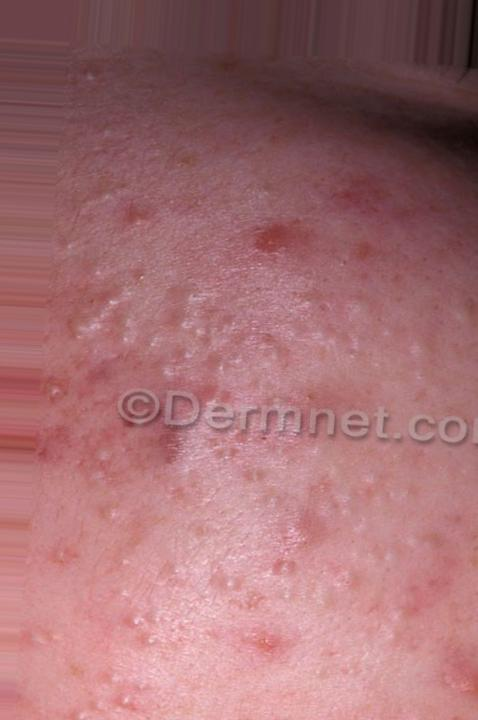Acne: (145, 397, 252, 518), (239, 201, 330, 300), (277, 497, 363, 598), (57, 273, 144, 370)
